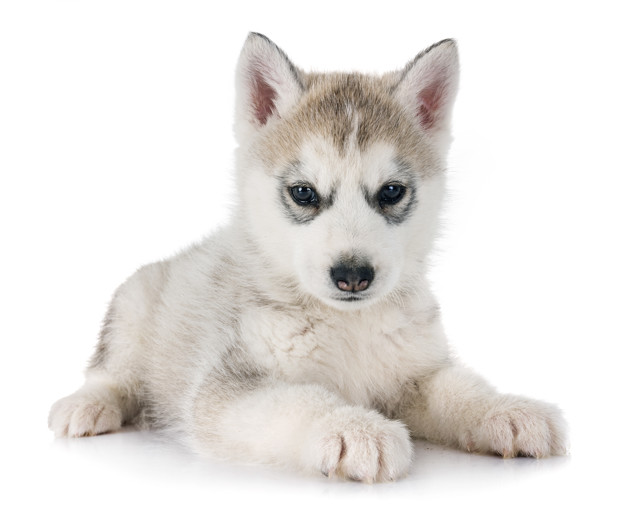husky: (84, 22, 574, 490)
